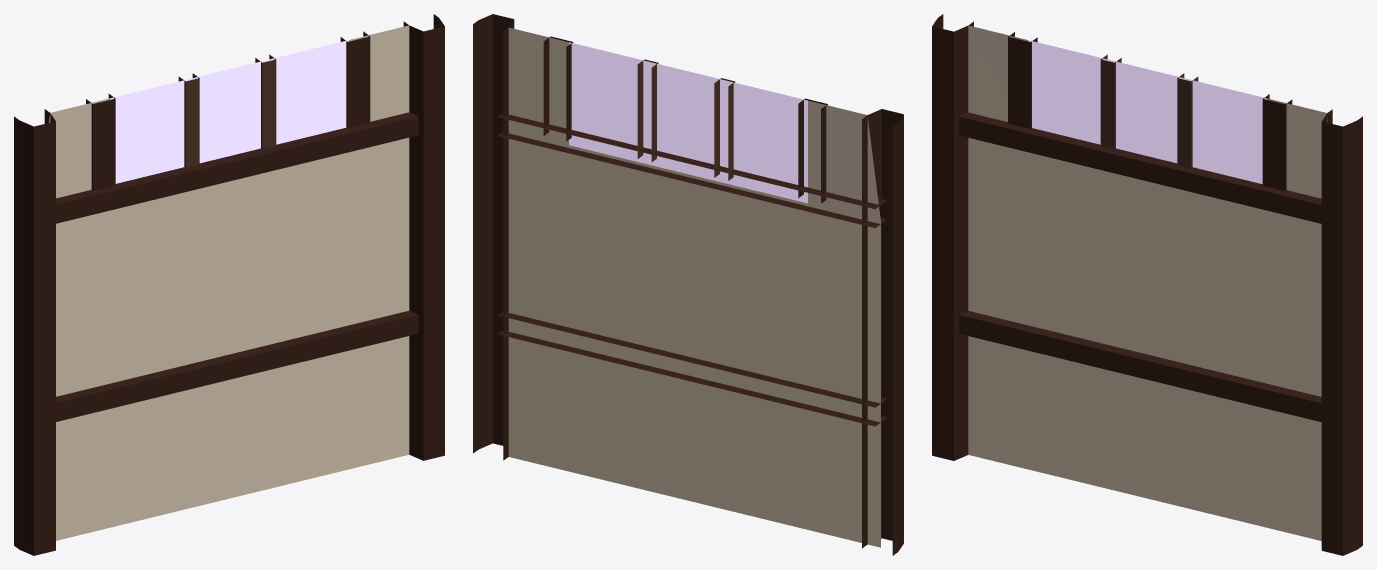
File: BuildingWall_7_2  Asia.fbx
3 views of the same model, side by side, from view 1: azimuth 30°, elevation 25°; view 2: azimuth 150°, elevation 25°; view 3: azimuth 330°, elevation 25° (orthographic).
Parts seen in each view (by area): view 1: BuildingWall_7_2; view 2: BuildingWall_7_2; view 3: BuildingWall_7_2.
Part boxes in pixels (x1,y1,x2,y2): BuildingWall_7_2: (14, 14, 444, 555); BuildingWall_7_2: (473, 14, 903, 555); BuildingWall_7_2: (932, 14, 1362, 555).
Size of the model in its own units: 2 by 1.96 by 0.127.
